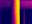Hotspot: (16, 0, 20, 23)
